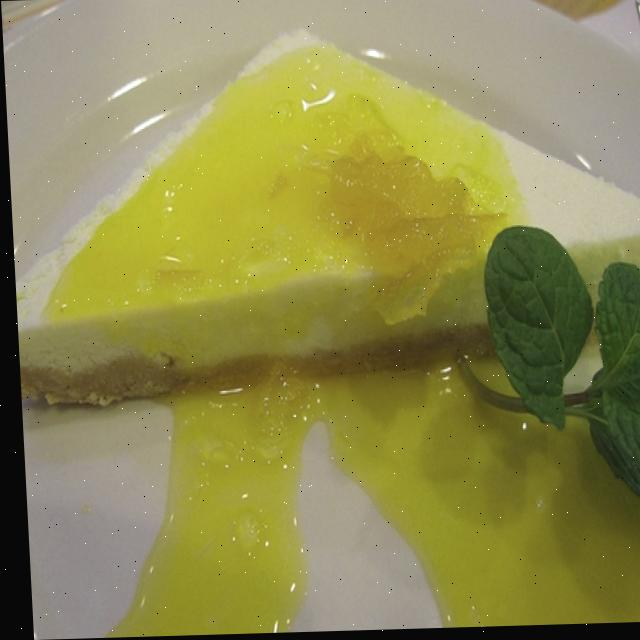蛋糕甜品: (2, 28, 602, 529)
